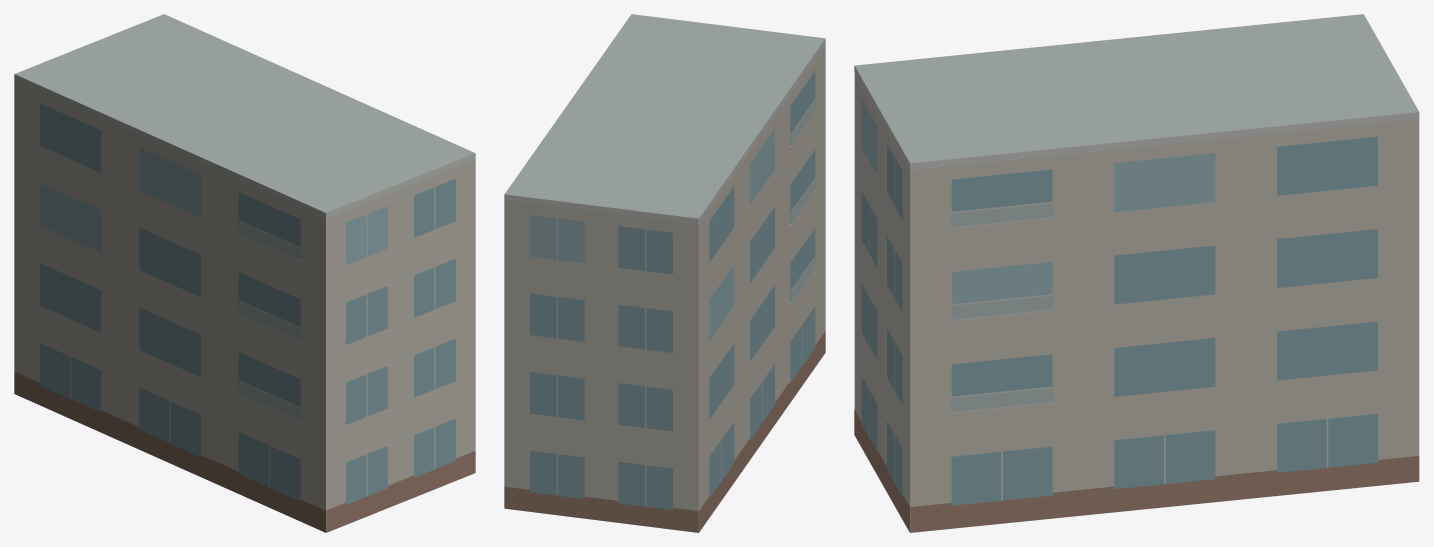
Rendered from survey-upis-32784566.glb.
The picture shows the model from 3 angles, left to right: view 1: azimuth 30°, elevation 25°; view 2: azimuth 150°, elevation 25°; view 3: azimuth 270°, elevation 25°; orthographic projection. The views are drawn at different scales.
Parts seen in each view (by area): view 1: survey-upis-32784566.tmp; view 2: survey-upis-32784566.tmp; view 3: survey-upis-32784566.tmp.
Boxes of the visible parts, x1,y1,x2,y2 form: survey-upis-32784566.tmp: [14, 14, 475, 532]; survey-upis-32784566.tmp: [504, 14, 825, 532]; survey-upis-32784566.tmp: [854, 14, 1419, 532].
Size of the model in its own units: 11.36 by 13.1 by 18.16.
